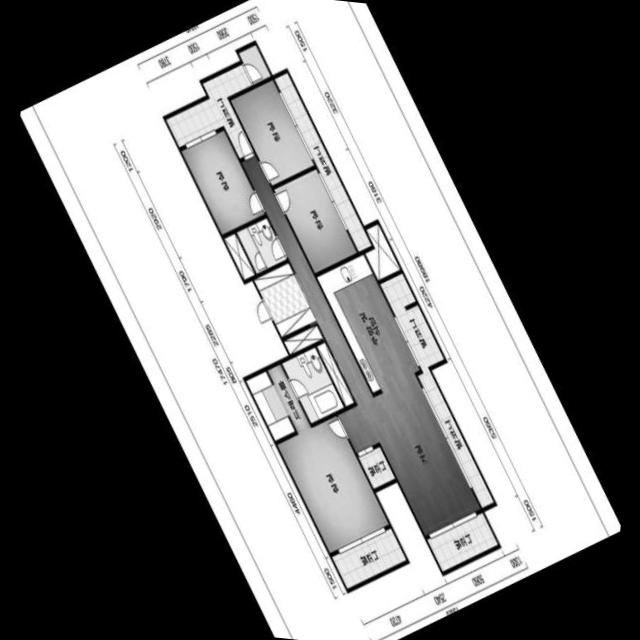background: (20, 0, 620, 640)
space_balconi: (379, 272, 493, 506), (273, 71, 371, 250), (165, 63, 253, 157), (331, 527, 406, 587), (426, 511, 497, 570), (357, 445, 394, 487)
space_bedroom: (276, 414, 388, 551), (230, 78, 314, 184), (180, 129, 264, 233), (273, 167, 356, 271)
space_dressroom: (245, 362, 309, 440)
space_front: (253, 261, 315, 336)
space_kitchen: (316, 253, 419, 391)
space_living_room: (241, 154, 480, 534)
space_other: (315, 340, 354, 405), (364, 222, 400, 279), (223, 232, 254, 278), (237, 43, 270, 83), (283, 323, 323, 354)
space_toilet: (281, 345, 343, 422), (235, 216, 286, 272)
